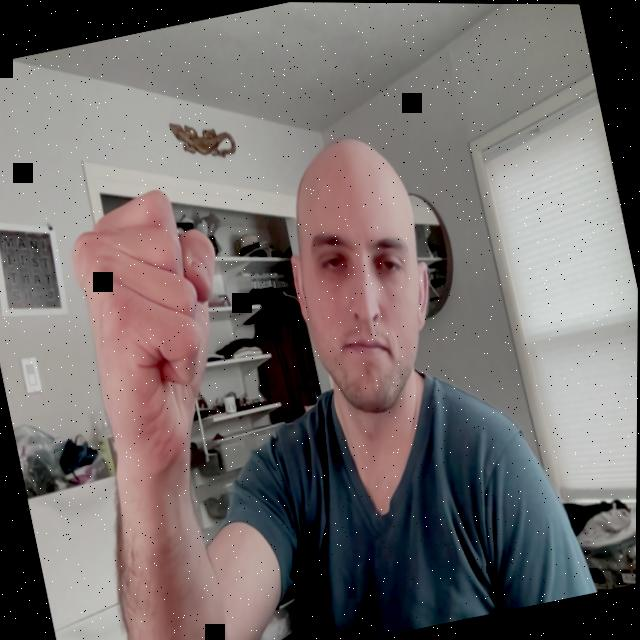Rock: (57, 174, 258, 478)
